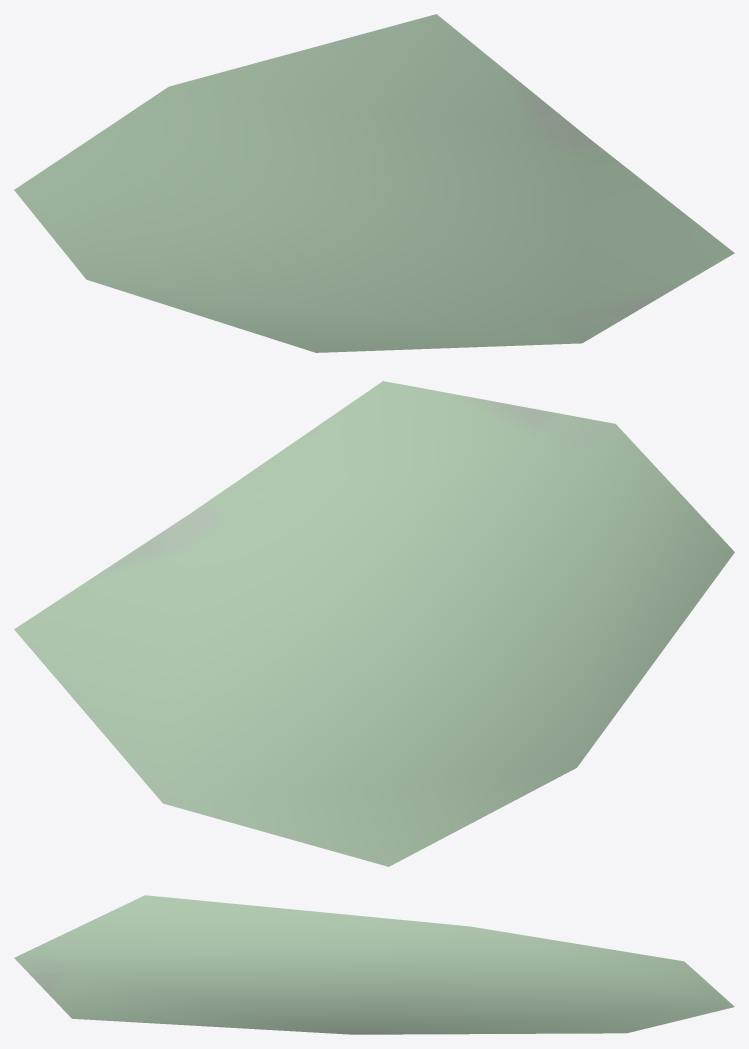
File: TROLLHOLE02_HOLECAP77.fbx
3 renders of one model, top to bottom at view 1: azimuth 30°, elevation 25°; view 2: azimuth 150°, elevation 25°; view 3: azimuth 270°, elevation 25°, orthographic. The views are drawn at different scales.
Visible parts, largest first — view 1: TROLLHOLE02_HOLECAP77; view 2: TROLLHOLE02_HOLECAP77; view 3: TROLLHOLE02_HOLECAP77.
Part boxes in pixels (bbox=[...]): TROLLHOLE02_HOLECAP77: bbox=[14, 14, 734, 352]; TROLLHOLE02_HOLECAP77: bbox=[14, 381, 734, 866]; TROLLHOLE02_HOLECAP77: bbox=[14, 895, 734, 1034].
Bounding box in the file's own units: 13150 × 3131 × 21714.
Materials: 1 (1 with a texture image).
